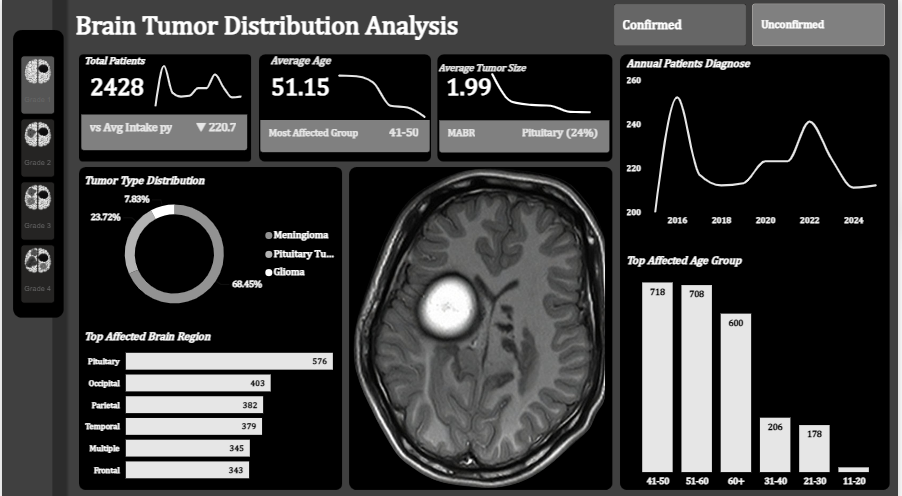

Layout of this report page (visuals, bound fields, positions):
{"tool":"powerbi","page":{"name":"Overview","canvas":[1280,720],"ordinal":0},"visuals":[{"type":"cardVisual","fields":{"Data":["Count(Brain Tumor Data.Patient ID)"]},"box":[97,79,187,97],"z":0},{"type":"lineChart","fields":{"Category":["Brain Tumor Data.Date of Diagnosis.Variation.Date Hierarchy.Year"],"Y":["CountNonNull(Brain Tumor Data.Patient ID)"]},"box":[204.3,72.9,151.4,85.7],"z":1000},{"type":"cardVisual","fields":{"Data":["Count(Brain Tumor Data.Patient ID)"]},"box":[84.3,60,295.7,185.7],"z":2000},{"type":"textbox","box":[112.5,73.9,147.8,30.2],"z":3000},{"type":"cardVisual","fields":{"Data":["Avg(Brain Tumor Data.Age)"]},"box":[356.1,79,186.5,97.4],"z":4000},{"type":"lineChart","fields":{"Category":["Brain Tumor Data.Age Group"],"Y":["Count(Brain Tumor Data.Patient ID)"]},"box":[467,89,151.2,87.3],"z":5000},{"type":"cardVisual","fields":{"Data":["Count(Brain Tumor Data.Patient ID)"]},"box":[340,72.9,300,175.7],"z":5001},{"type":"textbox","box":[378,73.9,115.9,30.2],"z":5002},{"type":"cardVisual","fields":{"Data":["Avg(Brain Tumor Data.Tumor Size (cm))"]},"box":[606.4,79,186.5,97.4],"z":5003},{"type":"lineChart","fields":{"Category":["Brain Tumor Data.Affected Brain Region"],"Y":["Sum(Brain Tumor Data.Tumor Size (cm))"]},"box":[683.7,89,171.3,87.3],"z":5004},{"type":"cardVisual","fields":{"Data":["Count(Brain Tumor Data.Patient ID)"]},"box":[595.7,74.3,301.4,174.3],"z":5005},{"type":"textbox","box":[618.3,85,175,31.7],"z":5006},{"type":"advancedSlicerVisual","fields":{"Values":["Brain Tumor Data.Histology Confirmation"]},"box":[868.6,1.4,398.6,71.4],"z":5007},{"type":"ChicletSlicer1448559807354","fields":{"Category":["Tumor Images.Tumor Grade"],"Image":["Tumor Images.Icon URL"]},"box":[18.4,72.3,65.2,374.2],"z":5008},{"type":"imageDB603108E3FF4EBFB8047F5653368E8C","fields":{"imageUrl":["Tumor Images.Image URL"]},"box":[495,231.7,373.3,471.7],"z":5010},{"type":"donutChart","fields":{"Category":["Brain Tumor Data.Tumor Type"],"Y":["CountNonNull(Brain Tumor Data.Patient ID)"]},"box":[113.3,260,376.7,208.3],"z":5011},{"type":"textbox","box":[113.3,245,323.3,31.7],"z":5012},{"type":"clusteredBarChart","fields":{"Category":["Brain Tumor Data.Affected Brain Region"],"Y":["CountNonNull(Brain Tumor Data.Patient ID)"]},"box":[112.9,480,377.1,222.9],"z":5013},{"type":"textbox","box":[112.9,468.6,354.3,42.9],"z":5014},{"type":"lineChart","fields":{"Category":["Brain Tumor Data.Date of Diagnosis.Variation.Date Hierarchy.Year"],"Y":["CountNonNull(Brain Tumor Data.Patient ID)"]},"box":[887.1,101.4,380,228.6],"z":5015},{"type":"textbox","box":[887.1,78.6,272.9,37.1],"z":5016},{"type":"clusteredColumnChart","fields":{"Category":["Brain Tumor Data.Age Group"],"Y":["CountNonNull(Brain Tumor Data.Patient ID)"]},"box":[887.1,360,380,342.9],"z":5017},{"type":"textbox","box":[887.1,360,370,45.7],"z":5018},{"type":"textbox","box":[100,12.9,718.6,60],"z":5019}]}

Visuals, with their boxes in screenshot pixels (x1, y1, x2, y2), scaled from the page's 1280x720 canvas onto the 902x496 screenshot:
cardVisual - Count(Brain Tumor Data.Patient ID): [68,54,200,121]
lineChart - Brain Tumor Data.Date of Diagnosis.Variation.Date Hierarchy.Year x CountNonNull(Brain Tumor Data.Patient ID): [144,50,251,109]
cardVisual - Count(Brain Tumor Data.Patient ID): [59,41,268,169]
textbox: [79,51,183,72]
cardVisual - Avg(Brain Tumor Data.Age): [251,54,382,122]
lineChart - Brain Tumor Data.Age Group x Count(Brain Tumor Data.Patient ID): [329,61,436,121]
cardVisual - Count(Brain Tumor Data.Patient ID): [240,50,451,171]
textbox: [266,51,348,72]
cardVisual - Avg(Brain Tumor Data.Tumor Size (cm)): [427,54,559,122]
lineChart - Brain Tumor Data.Affected Brain Region x Sum(Brain Tumor Data.Tumor Size (cm)): [482,61,603,121]
cardVisual - Count(Brain Tumor Data.Patient ID): [420,51,632,171]
textbox: [436,59,559,80]
advancedSlicerVisual - Brain Tumor Data.Histology Confirmation: [612,1,893,50]
ChicletSlicer1448559807354 - Tumor Images.Tumor Grade x Tumor Images.Icon URL: [13,50,59,308]
imageDB603108E3FF4EBFB8047F5653368E8C - Tumor Images.Image URL: [349,160,612,485]
donutChart - Brain Tumor Data.Tumor Type x CountNonNull(Brain Tumor Data.Patient ID): [80,179,345,323]
textbox: [80,169,308,191]
clusteredBarChart - Brain Tumor Data.Affected Brain Region x CountNonNull(Brain Tumor Data.Patient ID): [80,331,345,484]
textbox: [80,323,329,352]
lineChart - Brain Tumor Data.Date of Diagnosis.Variation.Date Hierarchy.Year x CountNonNull(Brain Tumor Data.Patient ID): [625,70,893,227]
textbox: [625,54,817,80]
clusteredColumnChart - Brain Tumor Data.Age Group x CountNonNull(Brain Tumor Data.Patient ID): [625,248,893,484]
textbox: [625,248,886,279]
textbox: [70,9,577,50]
